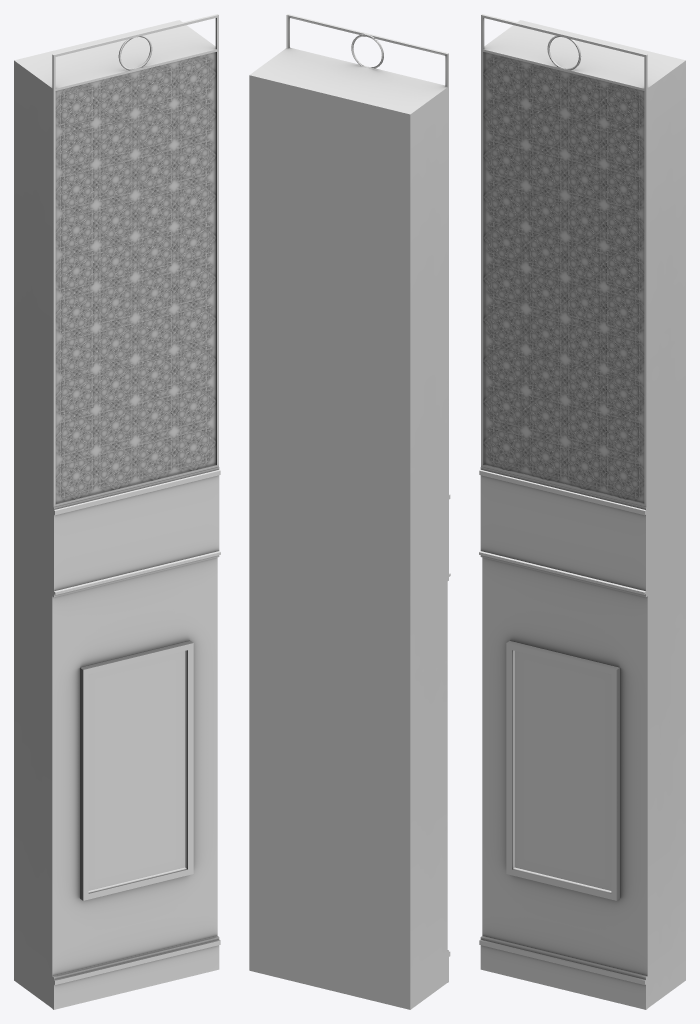
File: midwall_2.glb
The picture shows the model from 3 angles, left to right: view 1: azimuth 30°, elevation 25°; view 2: azimuth 150°, elevation 25°; view 3: azimuth 330°, elevation 25°; orthographic projection. The views are drawn at different scales.
Parts seen in each view (by area): view 1: midwall_2; view 2: midwall_2; view 3: midwall_2.
Boxes of the visible parts, x1,y1,x2,y2 form: midwall_2: (14,14,220,1009); midwall_2: (249,14,450,1009); midwall_2: (479,14,685,1009).
Size of the model in its own units: 1.5 by 8.26 by 0.6527.
Materials: 1 (1 with a texture image).
